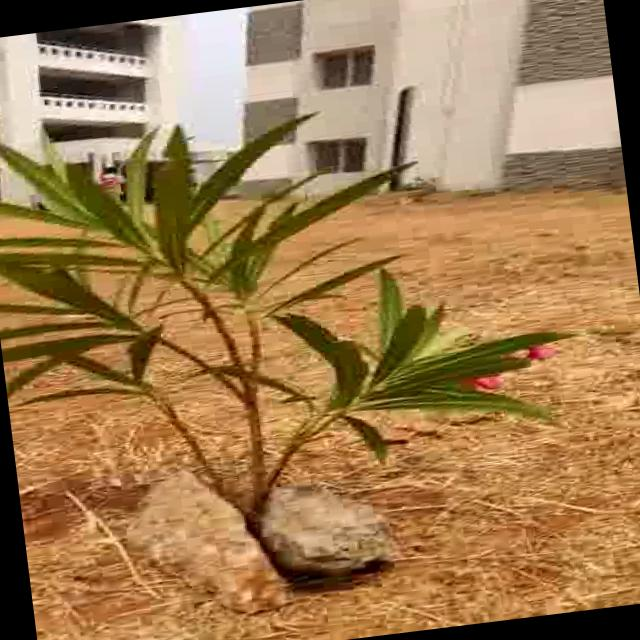Oleander: (10, 66, 613, 518)
